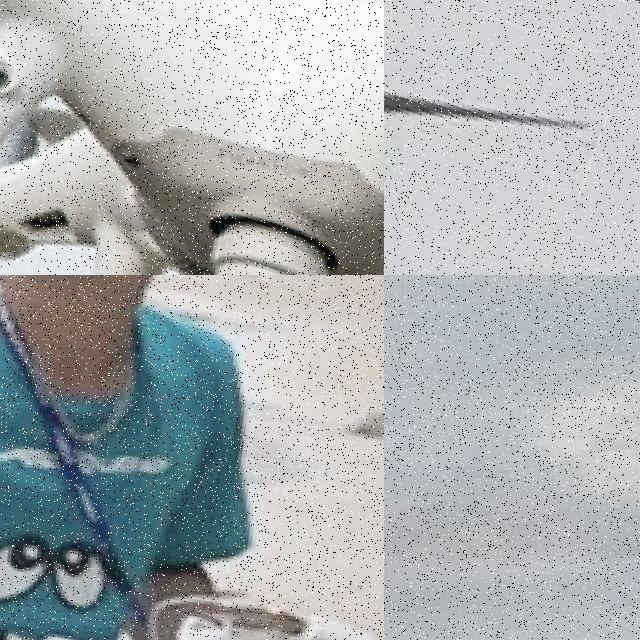drone: (0, 0, 384, 275), (384, 0, 606, 275)
